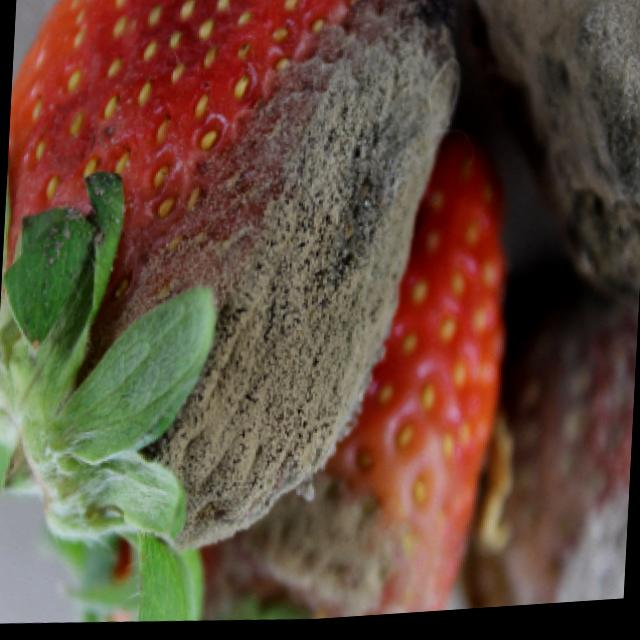Gray Mold: (8, 0, 464, 550), (449, 0, 640, 327), (455, 301, 639, 615), (197, 470, 447, 624)
